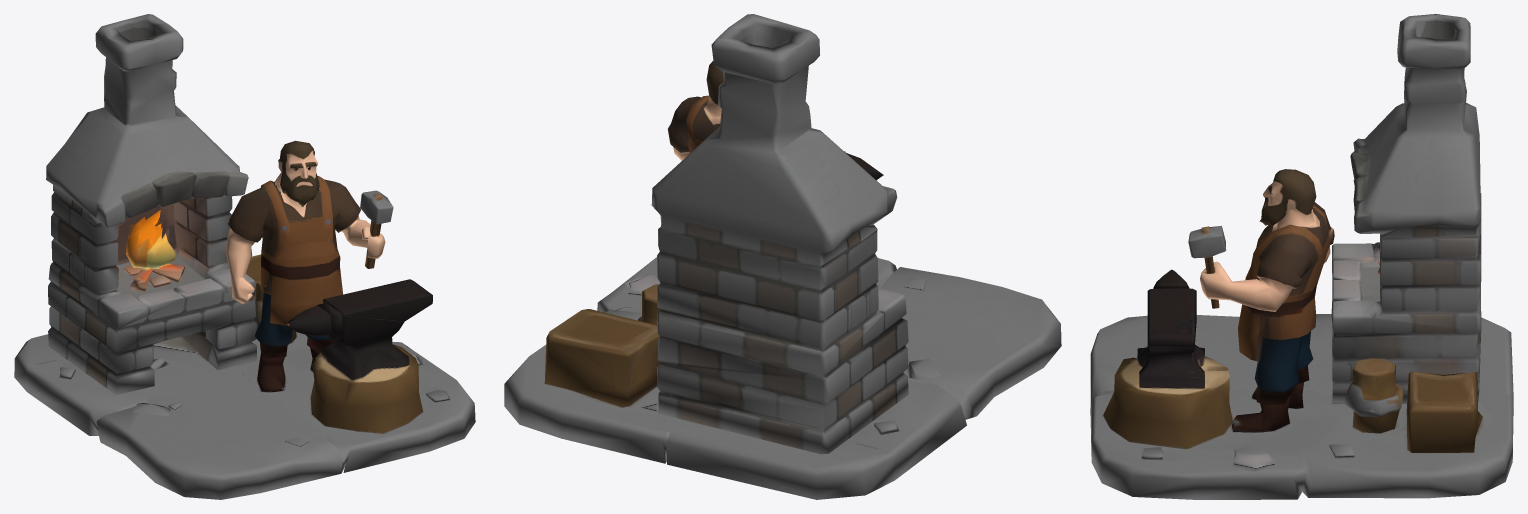
Rendered from blacksmith.glb.
The picture shows the model from 3 angles, left to right: view 1: azimuth 30°, elevation 25°; view 2: azimuth 150°, elevation 25°; view 3: azimuth 270°, elevation 25°; orthographic projection. The views are drawn at different scales.
Bounding box in the file's own units: 0.8799 × 0.9111 × 0.957.
1 material, 1 textured.
